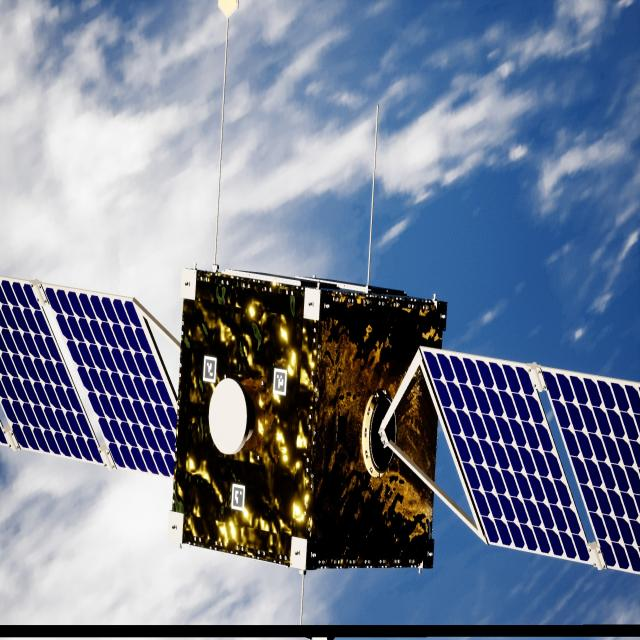medium_debris: (0, 267, 640, 577)
